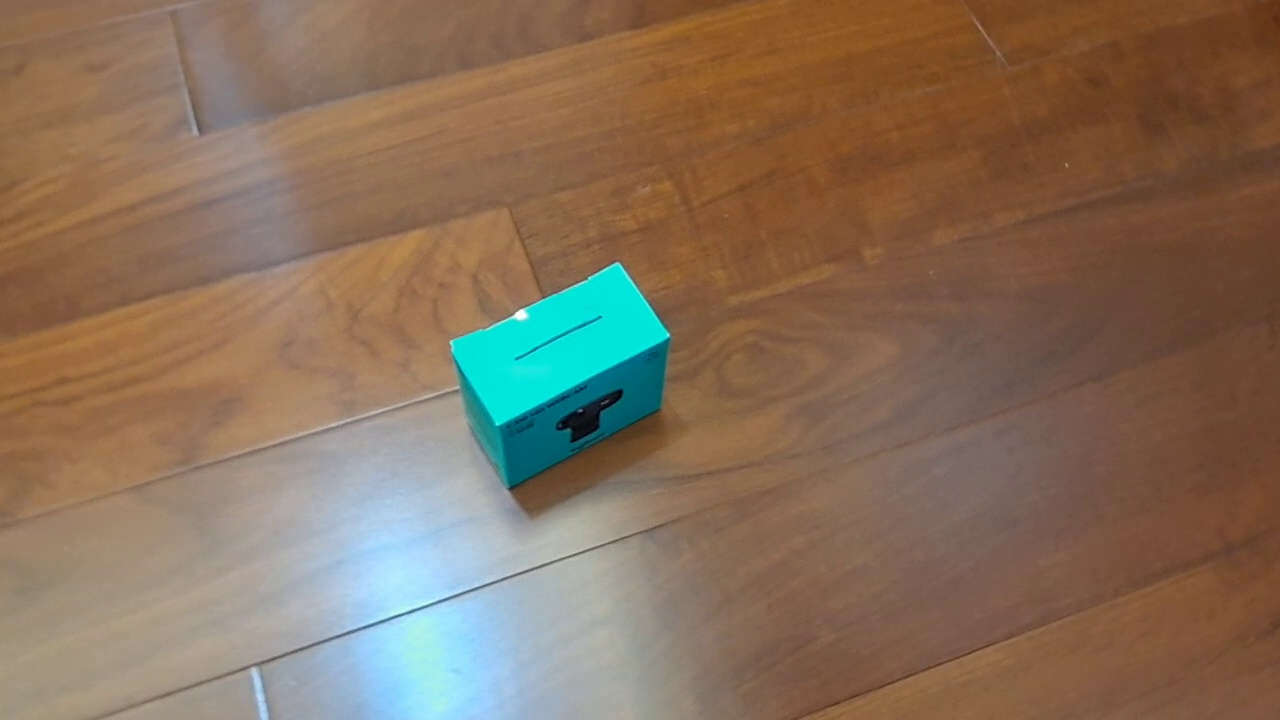webcam: (449, 261, 671, 491)
